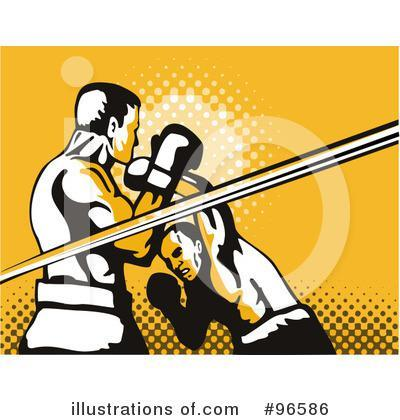person: (19, 79, 202, 355), (121, 155, 341, 355)
